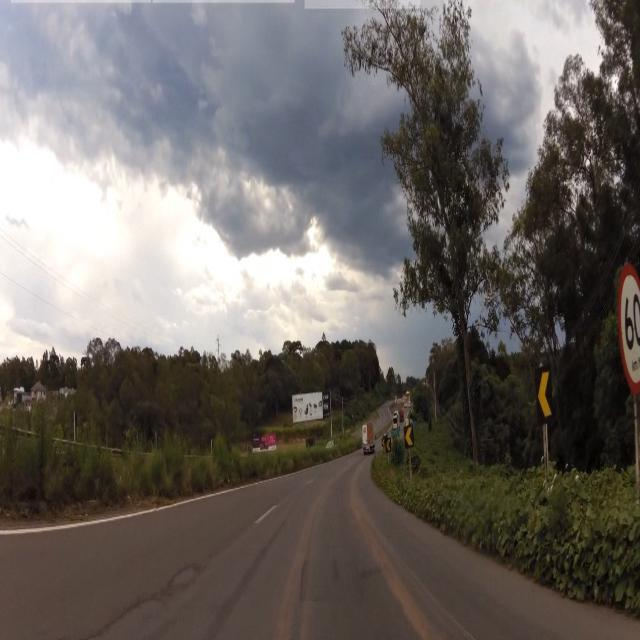Del: (535, 368, 549, 428), (405, 425, 413, 448), (384, 436, 392, 454)
R-19: (618, 260, 640, 412)
